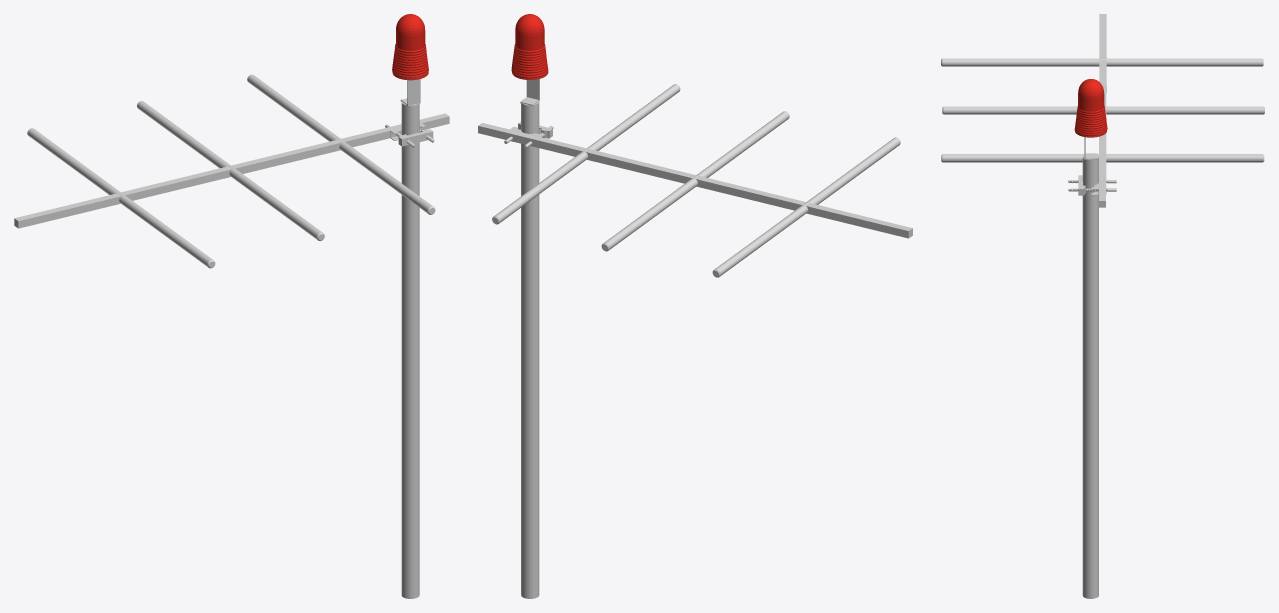
The model's file is NearFieldMonitorCopy.fbx.
3 renders of one model, left to right at view 1: azimuth 30°, elevation 25°; view 2: azimuth 150°, elevation 25°; view 3: azimuth 270°, elevation 25°, orthographic. The views are drawn at different scales.
Parts seen in each view (by area): view 1: clamp2; view 2: clamp2; view 3: clamp2.
Boxes of the visible parts, x1=… form: clamp2: x1=14, y1=14, x2=449, y2=598; clamp2: x1=478, y1=14, x2=912, y2=598; clamp2: x1=941, y1=14, x2=1264, y2=598.
Bounding box in the file's own units: 2740 × 3523 × 2005.
